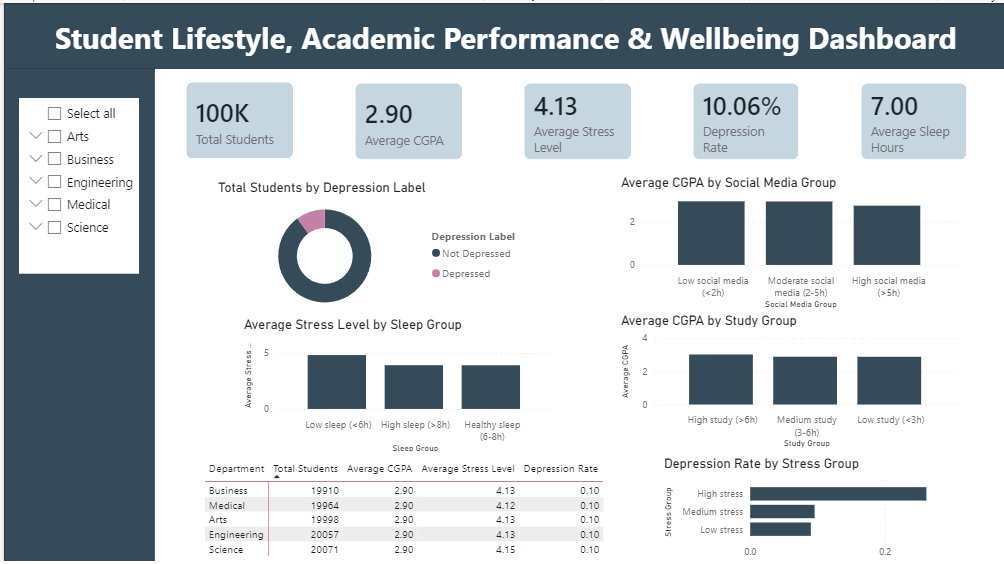

The dashboard page shown, as its layout file describes it:
{"tool":"powerbi","page":{"name":"Page 1","canvas":[1280,720],"ordinal":0},"visuals":[{"type":"cardVisual","fields":{"Data":["Department_Dim.Total Students"]},"box":[215.4,84.3,170.1,131.1],"z":0},{"type":"cardVisual","fields":{"Data":["Department_Dim.Average CGPA"]},"box":[430.8,85.9,170.1,131.1],"z":1000},{"type":"cardVisual","fields":{"Data":["Department_Dim.Depression Rate"]},"box":[861.7,85.9,168.6,131.1],"z":2000},{"type":"cardVisual","fields":{"Data":["Department_Dim.Average Stress Level"]},"box":[646.2,85.9,170.1,131.1],"z":3000},{"type":"cardVisual","fields":{"Data":["Department_Dim.Average Sleep Hours"]},"box":[1075.5,85.9,168.6,131.1],"z":4000},{"type":"donutChart","fields":{"Category":["Fact_Table.Depression Label"],"Y":["Department_Dim.Total Students"]},"box":[251.3,224.8,405.9,176.4],"z":5000},{"type":"clusteredColumnChart","fields":{"Category":["Fact_Table.Sleep Group"],"Y":["Department_Dim.Average Stress Level"]},"box":[251.3,399.6,405.9,178],"z":6000},{"type":"clusteredColumnChart","fields":{"Category":["Fact_Table.Study Group"],"Y":["Department_Dim.Average CGPA"]},"box":[782,393.4,440.2,178],"z":7000},{"type":"clusteredColumnChart","fields":{"Category":["Fact_Table.Social Media Group"],"Y":["Department_Dim.Average CGPA"]},"box":[782,223.2,440.2,176.4],"z":8000},{"type":"barChart","fields":{"Category":["Fact_Table.Stress Group"],"Y":["Department_Dim.Depression Rate"]},"box":[836.7,576,385.6,142],"z":9000},{"type":"pivotTable","fields":{"Values":["Department_Dim.Total Students","Department_Dim.Average CGPA","Department_Dim.Average Stress Level","Department_Dim.Depression Rate"],"Rows":["Student_Dim.Department"]},"box":[251.3,577.6,530.7,142],"z":10000},{"type":"shape","box":[0,79.6,192,640],"z":10500},{"type":"slicer","fields":{"Values":["Student_Dim.Department","Student_Dim.Gender","Student_Dim.Age","Fact_Table.Depression Label"]},"box":[20.3,112.4,153,224.8],"z":11000},{"type":"shape","box":[0,0,1280,84.3],"z":12000},{"type":"textbox","box":[0,14,1280,65.6],"z":13000}]}

Visuals, with their boxes in screenshot pixels (x1, y1, x2, y2), scaled from the page's 1280x720 canvas onto the 1004x564 screenshot:
cardVisual - Department_Dim.Total Students: <box>169,66,302,169</box>
cardVisual - Department_Dim.Average CGPA: <box>338,67,471,170</box>
cardVisual - Department_Dim.Depression Rate: <box>676,67,808,170</box>
cardVisual - Department_Dim.Average Stress Level: <box>507,67,640,170</box>
cardVisual - Department_Dim.Average Sleep Hours: <box>844,67,976,170</box>
donutChart - Fact_Table.Depression Label x Department_Dim.Total Students: <box>197,176,515,314</box>
clusteredColumnChart - Fact_Table.Sleep Group x Department_Dim.Average Stress Level: <box>197,313,515,452</box>
clusteredColumnChart - Fact_Table.Study Group x Department_Dim.Average CGPA: <box>613,308,959,448</box>
clusteredColumnChart - Fact_Table.Social Media Group x Department_Dim.Average CGPA: <box>613,175,959,313</box>
barChart - Fact_Table.Stress Group x Department_Dim.Depression Rate: <box>656,451,959,562</box>
pivotTable - Department_Dim.Total Students x Department_Dim.Average CGPA: <box>197,452,613,563</box>
shape: <box>0,62,151,563</box>
slicer - Student_Dim.Department x Student_Dim.Gender: <box>16,88,136,264</box>
shape: <box>0,0,1003,66</box>
textbox: <box>0,11,1003,62</box>
